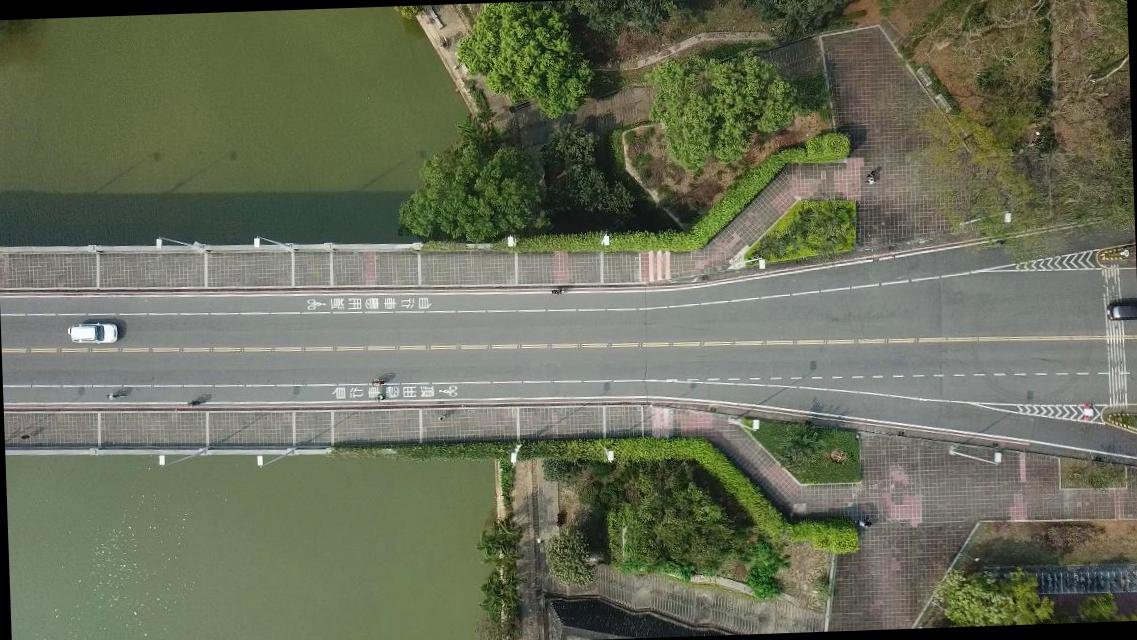vehicle: (68, 320, 116, 344), (1106, 302, 1136, 319)
